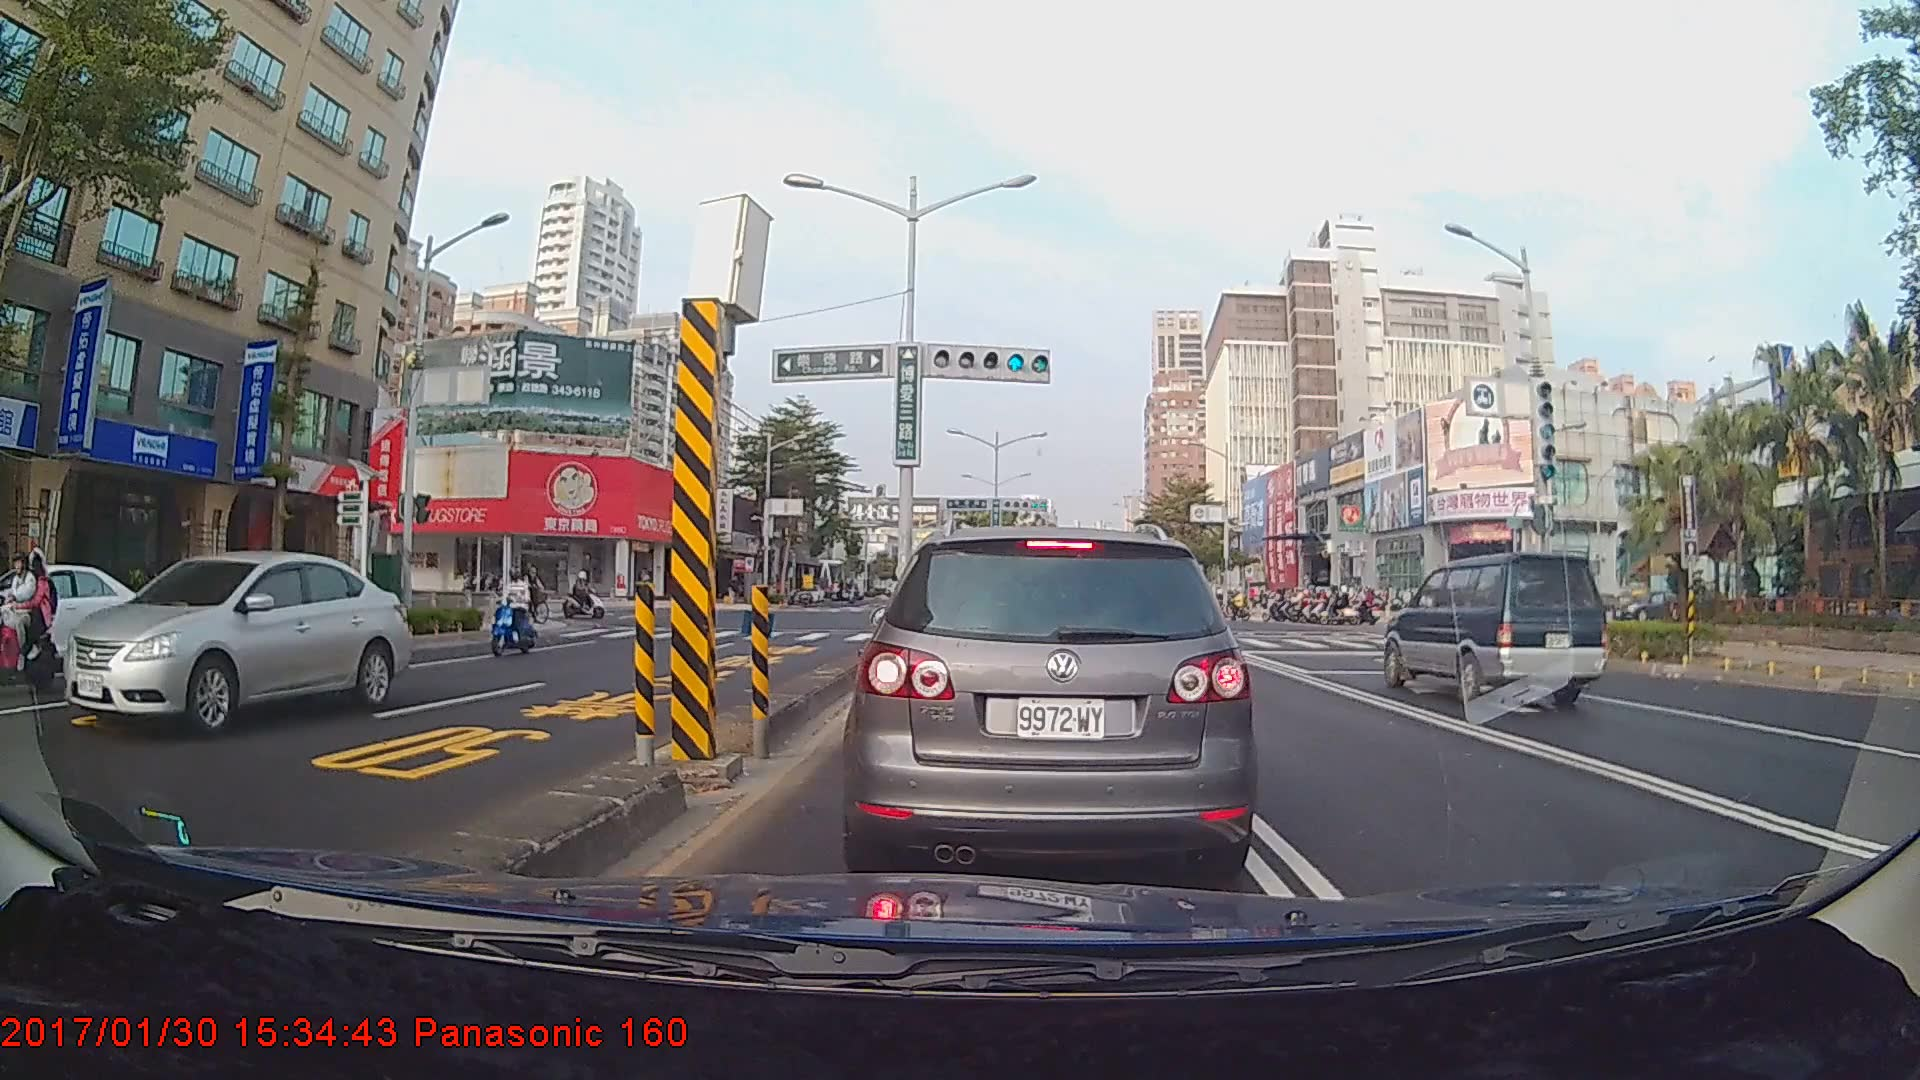rider: (487, 561, 544, 663), (561, 569, 606, 616)
vehicle: (853, 522, 1249, 882), (60, 550, 409, 736), (1381, 549, 1609, 706), (0, 561, 157, 671)
